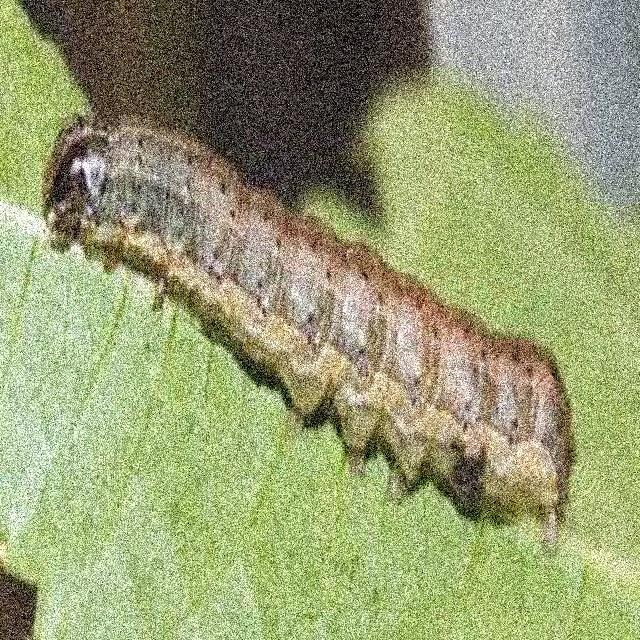gusano_cogollero: (41, 108, 580, 546)
